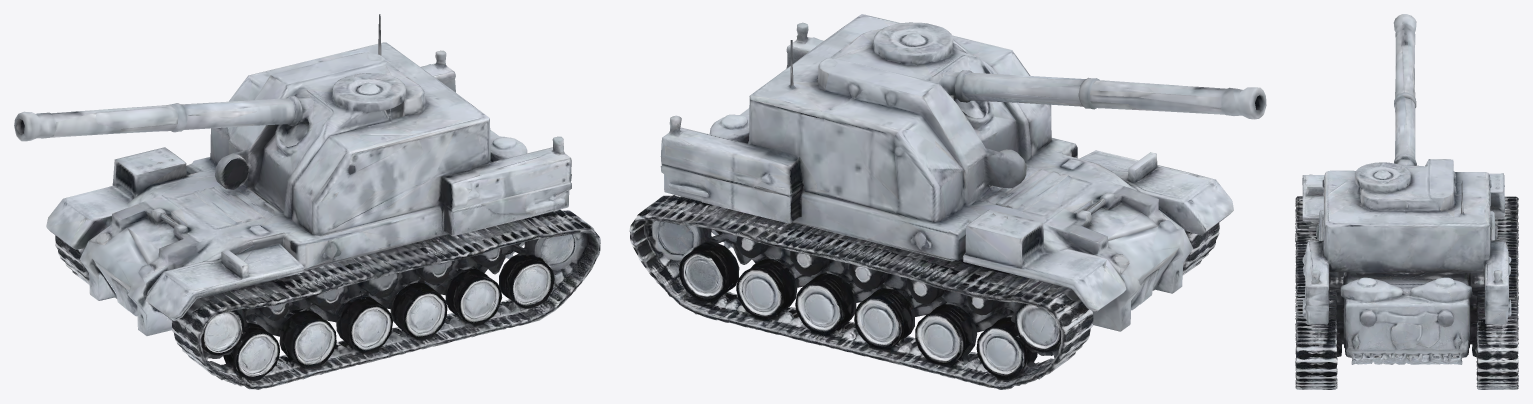
File: artillery-winter.glb
3 views of the same model, side by side, from view 1: azimuth 30°, elevation 25°; view 2: azimuth 150°, elevation 25°; view 3: azimuth 270°, elevation 25° (orthographic). The views are drawn at different scales.
Bounding box in the file's own units: 2 × 0.9959 × 0.973.
1 material, 1 textured.
